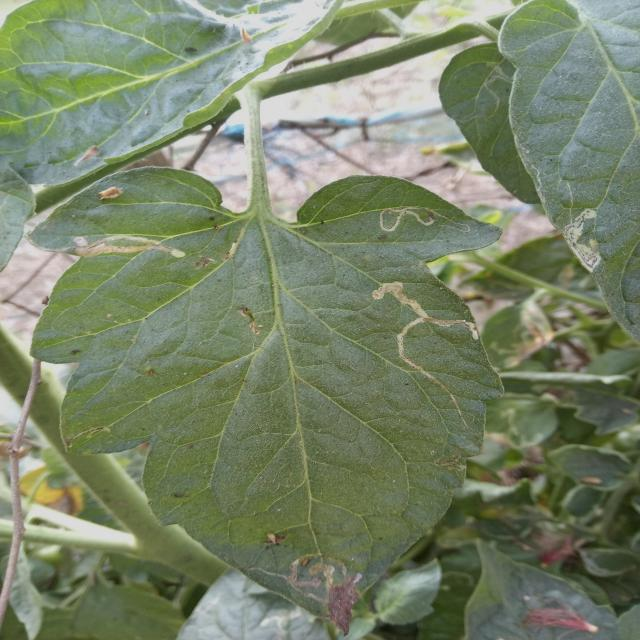Tuta absoluta: (265, 531, 378, 633), (388, 318, 467, 435), (560, 208, 606, 275), (73, 234, 186, 258), (371, 277, 428, 310), (378, 203, 436, 233), (434, 310, 483, 341)
